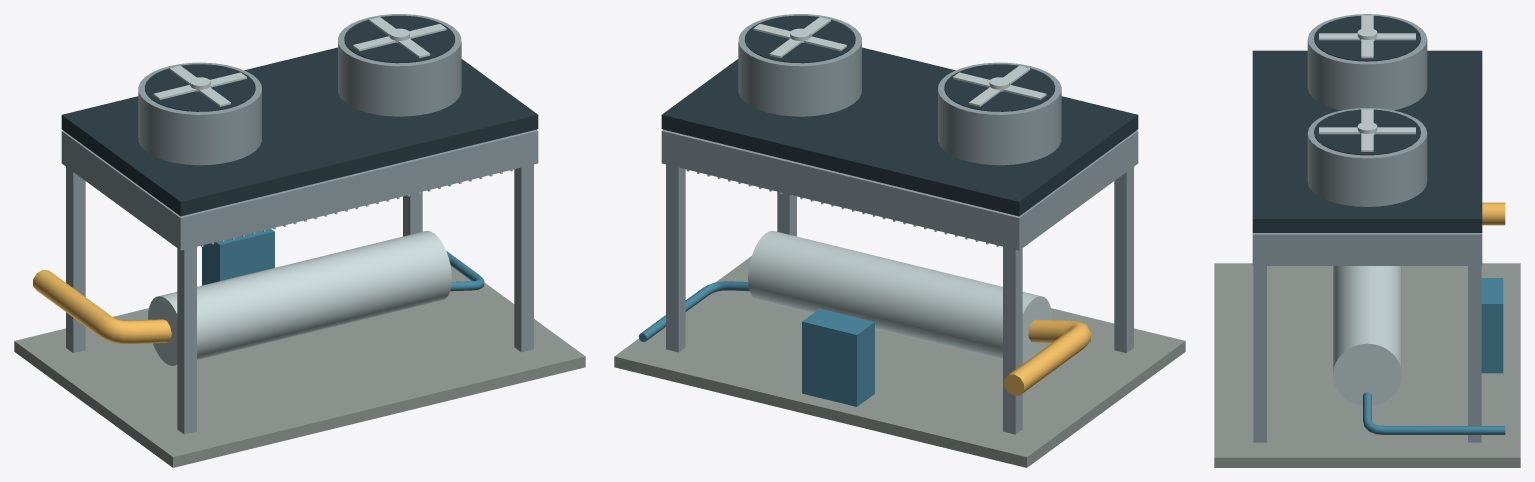
Rendered from 062_steam_condenser.glb.
The picture shows the model from 3 angles, left to right: view 1: azimuth 30°, elevation 25°; view 2: azimuth 150°, elevation 25°; view 3: azimuth 270°, elevation 25°; orthographic projection. The views are drawn at different scales.
Parts seen in each view (by area): view 1: DryCondenserSkid, FanPlenum, SurfaceCondenserShell, DryRadiatorCore, DryFanHousing, DryFanHousing.001, DryCoolerSupport.001, DryCoolerSupport.003, LowPressureSteamHeader, DryFanInlet, DryFanInlet.001, DryCoolerSupport (+3 smaller); view 2: DryCondenserSkid, FanPlenum, SurfaceCondenserShell, DryRadiatorCore, DryFanHousing, DryFanHousing.001, DryFanACControl, DryCoolerSupport.002, DryCoolerSupport.001, DryCoolerSupport, LowPressureSteamHeader, DryFanInlet (+3 smaller); view 3: DryCondenserSkid, FanPlenum, SurfaceCondenserShell, DryRadiatorCore, DryFanHousing.001, DryFanHousing, DryFanInlet.001, DryFanInlet, DryCoolerSupport.003, DryCoolerSupport.002, DryFanACControl, CondensateHotwellOutlet (+1 smaller).
Part boxes in pixels (box(x1,y1,x2,y2)): DryCondenserSkid: box(14, 266, 585, 467); FanPlenum: box(61, 47, 538, 216); SurfaceCondenserShell: box(148, 230, 451, 365); DryRadiatorCore: box(61, 129, 538, 250); DryFanHousing: box(138, 62, 261, 165); DryFanHousing.001: box(338, 14, 461, 116); DryCoolerSupport.001: box(177, 246, 196, 434); DryCoolerSupport.003: box(514, 164, 533, 352); LowPressureSteamHeader: box(33, 269, 171, 344); DryFanInlet: box(144, 64, 255, 111); DryFanInlet.001: box(344, 15, 455, 63); DryCoolerSupport: box(66, 167, 85, 353); DryCondenserSkid: box(614, 256, 1185, 467); FanPlenum: box(661, 47, 1138, 216); SurfaceCondenserShell: box(748, 230, 1051, 363); DryRadiatorCore: box(661, 129, 1138, 250); DryFanHousing: box(938, 62, 1061, 165); DryFanHousing.001: box(738, 14, 861, 116); DryFanACControl: box(802, 308, 874, 406); DryCoolerSupport.002: box(666, 164, 685, 352); DryCoolerSupport.001: box(1114, 167, 1133, 353); DryCoolerSupport: box(1003, 246, 1022, 434); LowPressureSteamHeader: box(1004, 319, 1090, 395); DryFanInlet: box(944, 64, 1055, 111); DryCondenserSkid: box(1214, 263, 1520, 467); FanPlenum: box(1252, 50, 1482, 232); SurfaceCondenserShell: box(1333, 266, 1401, 405); DryRadiatorCore: box(1252, 233, 1482, 265); DryFanHousing.001: box(1307, 108, 1427, 206); DryFanHousing: box(1307, 14, 1427, 110); DryFanInlet.001: box(1314, 109, 1420, 155); DryFanInlet: box(1314, 16, 1420, 61); DryCoolerSupport.003: box(1253, 266, 1266, 442); DryCoolerSupport.002: box(1468, 266, 1481, 442); DryFanACControl: box(1481, 278, 1503, 373); CondensateHotwellOutlet: box(1363, 392, 1505, 434).
Bounding box in the file's own units: 0.6 × 0.42 × 0.4.
